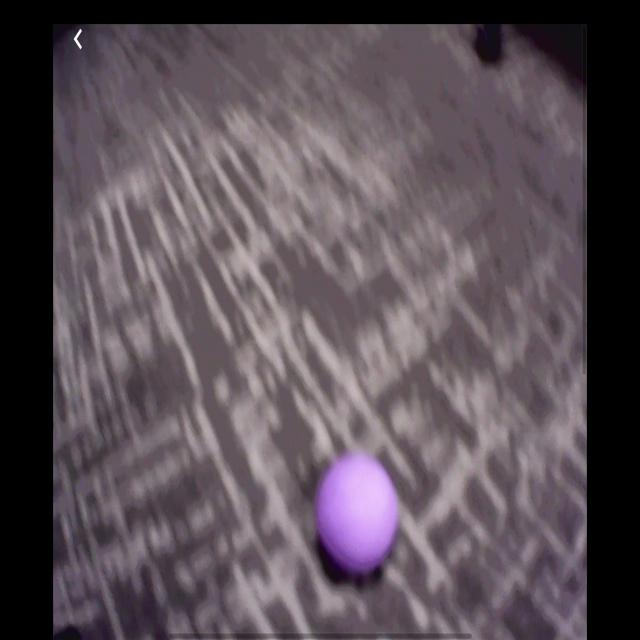ball: (320, 453, 398, 578)
